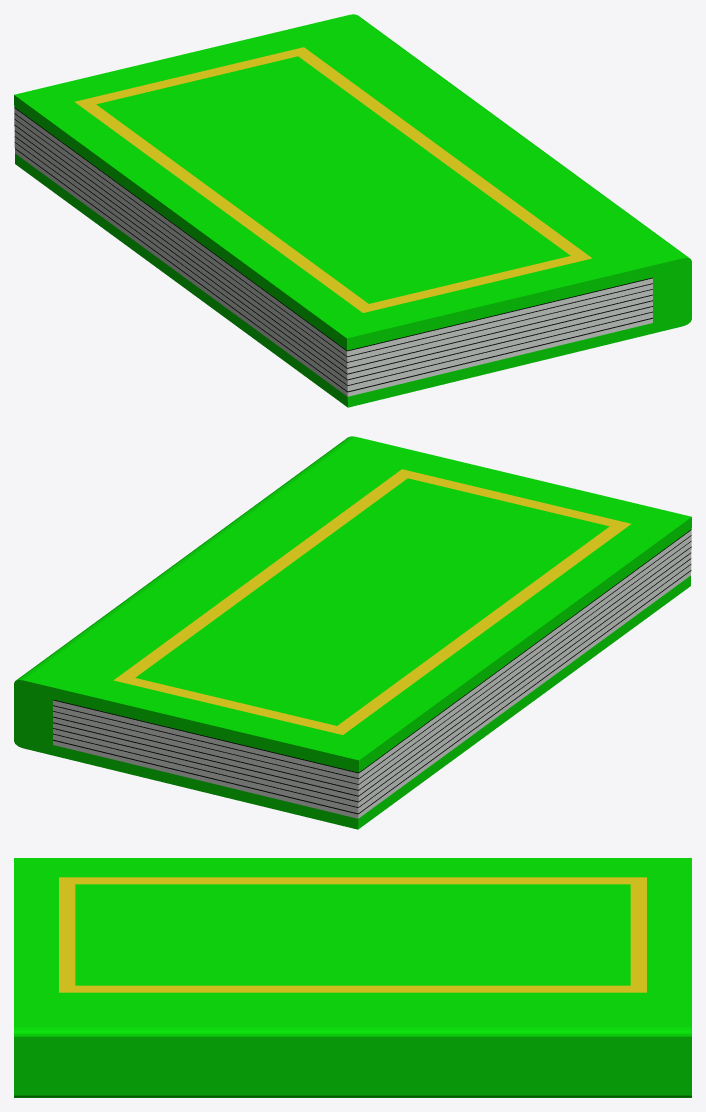
File: BlueBook2.fbx
The picture shows the model from 3 angles, top to bottom: view 1: azimuth 30°, elevation 25°; view 2: azimuth 150°, elevation 25°; view 3: azimuth 270°, elevation 25°; orthographic projection.
Parts seen in each view (by area): view 1: Green; view 2: Green; view 3: Green.
Boxes of the visible parts, x1,y1,x2,y2 form: Green: (14, 14, 691, 407); Green: (14, 436, 691, 829); Green: (14, 858, 691, 1097).
Size of the model in its own units: 120 by 23.18 by 200.
